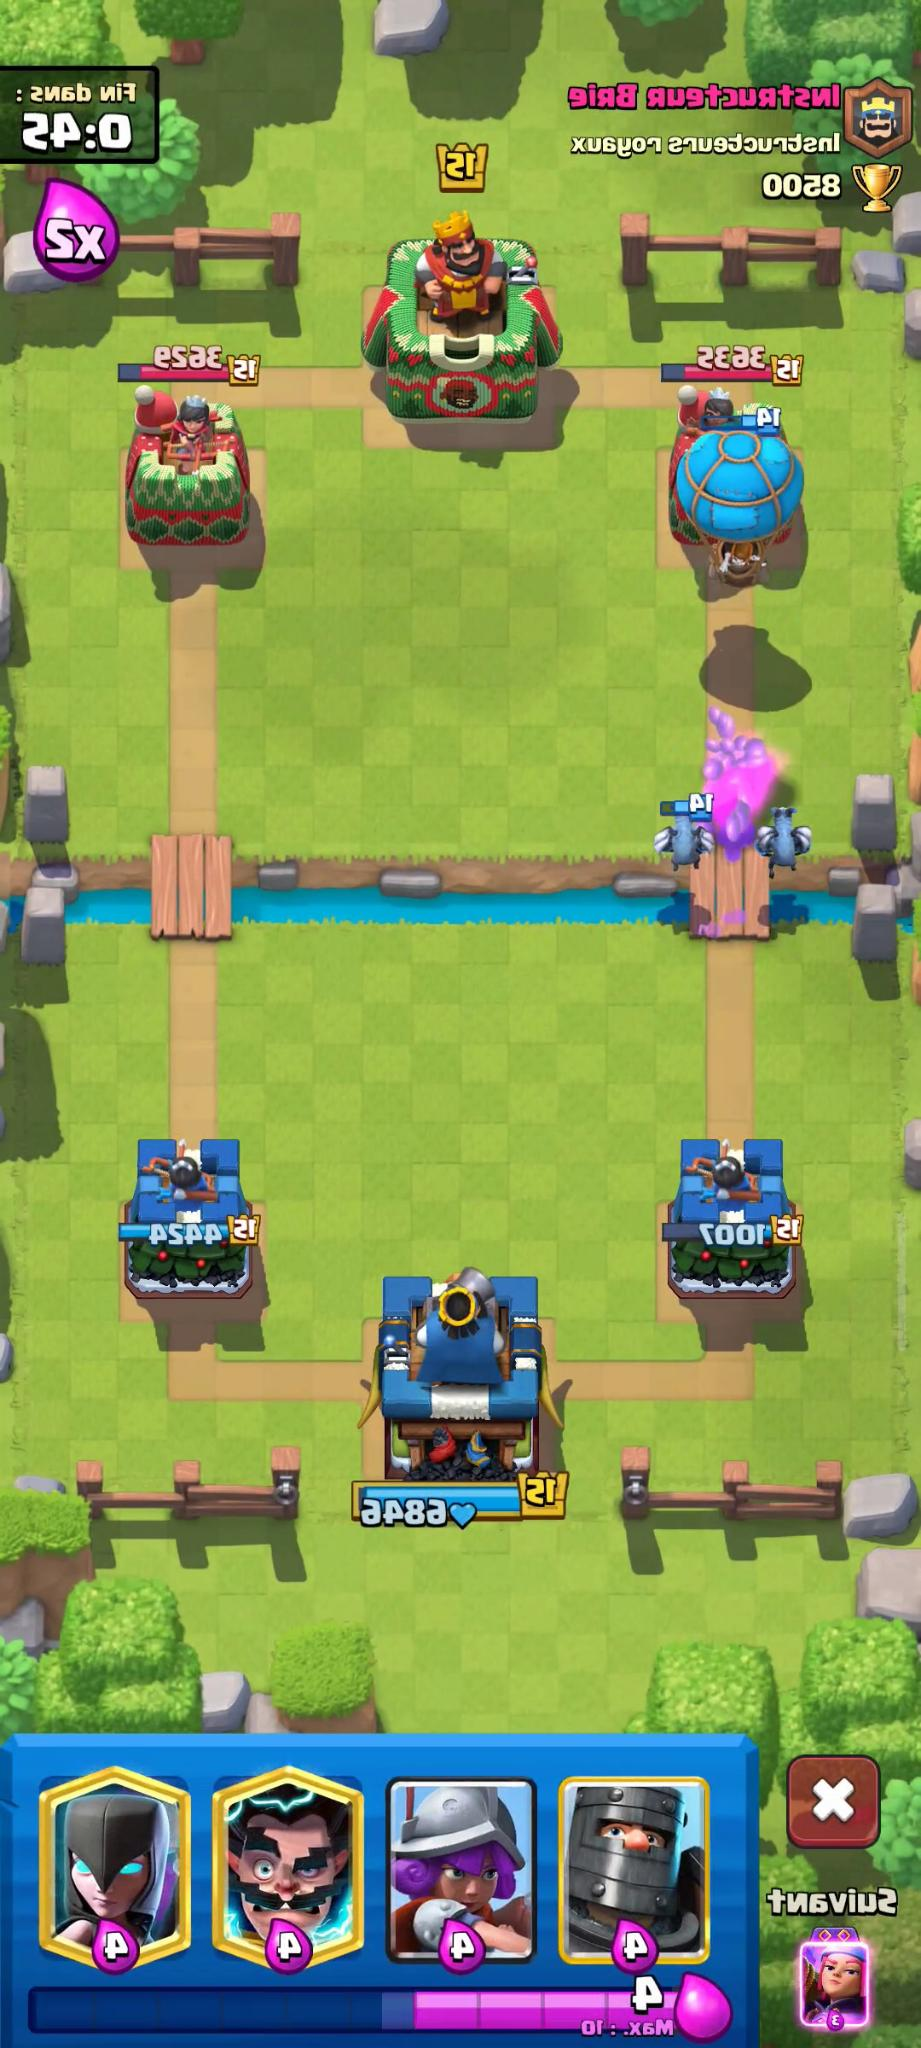gargouille: (645, 794, 711, 875), (747, 805, 814, 882)
